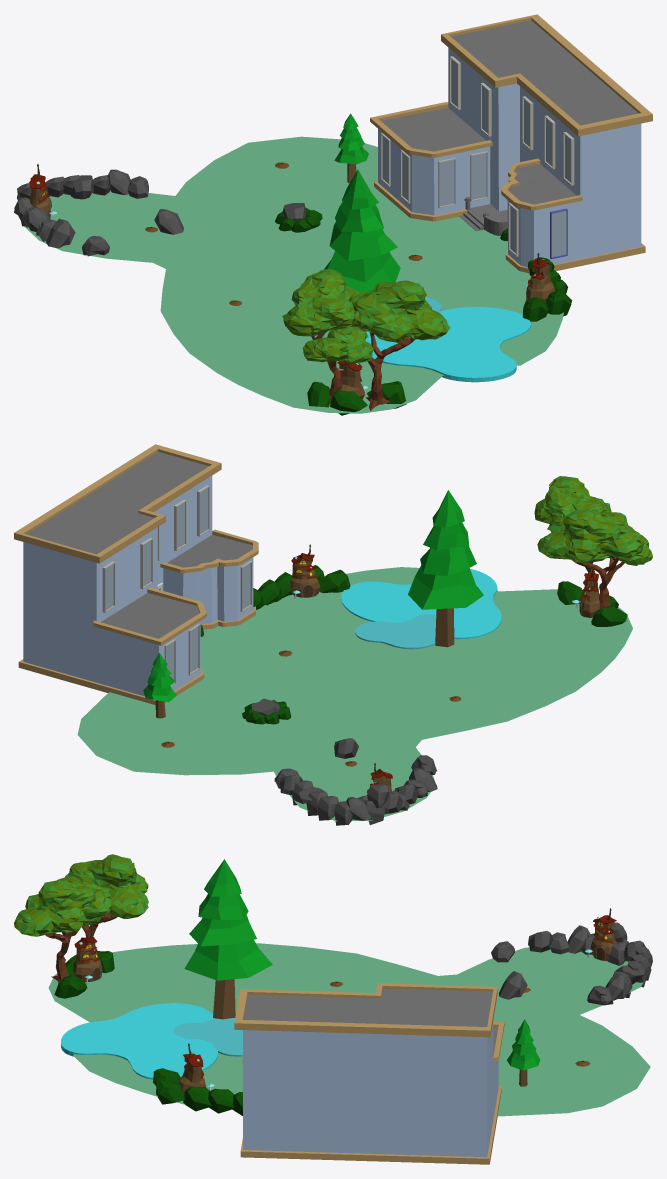
Rendered from Level design test SmolMediumlevel.fbx.
The picture shows the model from 3 angles, top to bottom: view 1: azimuth 30°, elevation 25°; view 2: azimuth 150°, elevation 25°; view 3: azimuth 270°, elevation 25°; orthographic projection. The views are drawn at different scales.
Visible parts, largest first — view 1: Plane.003, House_large.001, Cylinder.002, TreeBase.005, Cone.002, TreeBase.006, Cone.003, Gnome_House.002, Gnome_House.004, Gnome_House.003, medium_Rock_1.042, medium_Rock_1.035; view 2: Plane.003, House_large.001, Cone.002, TreeBase.006, Cylinder.002, TreeBase.005, Cylinder.001, Cone.003, Gnome_House.002, Gnome_House.004, medium_Rock_1.047, medium_Rock_1.014; view 3: House_large.001, Plane.003, Cylinder.002, Cone.002, TreeBase.005, TreeBase.006, Cylinder.001, Cone.003, Gnome_House.004, Gnome_House.003, Gnome_House.002, medium_Rock_1.025 (+5 smaller).
Part boxes in pixels (x1,y1,x2,y2): Plane.003: (24,136,563,413); House_large.001: (370,14,652,273); Cylinder.002: (365,307,530,382); TreeBase.005: (327,280,450,410); Cone.002: (324,169,400,331); TreeBase.006: (282,269,360,403); Cone.003: (334,113,368,183); Gnome_House.002: (526,253,554,303); Gnome_House.004: (337,360,367,399); Gnome_House.003: (29,164,56,219); medium_Rock_1.042: (330,390,367,415); medium_Rock_1.035: (46,218,75,248); Plane.003: (77,567,632,821); House_large.001: (14,444,258,704); Cone.002: (408,490,483,647); TreeBase.006: (537,509,652,608); Cylinder.002: (341,569,501,639); TreeBase.005: (534,476,611,594); Cylinder.001: (355,614,436,649); Cone.003: (143,653,176,718); Gnome_House.002: (290,544,320,598); Gnome_House.004: (572,569,599,617); medium_Rock_1.047: (591,606,627,626); medium_Rock_1.014: (318,569,350,593); House_large.001: (234,983,504,1164); Plane.003: (48,943,651,1116); Cylinder.002: (61,1003,217,1079); Cone.002: (184,859,272,1019); TreeBase.005: (14,876,111,983); TreeBase.006: (65,854,148,970); Cylinder.001: (174,1018,242,1056); Cone.003: (507,1019,540,1086); Gnome_House.004: (73,926,102,984); Gnome_House.003: (585,908,616,961); Gnome_House.002: (178,1043,214,1092); medium_Rock_1.025: (156,1079,184,1104).
Size of the model in its own units: 13634 by 4699 by 16580.
